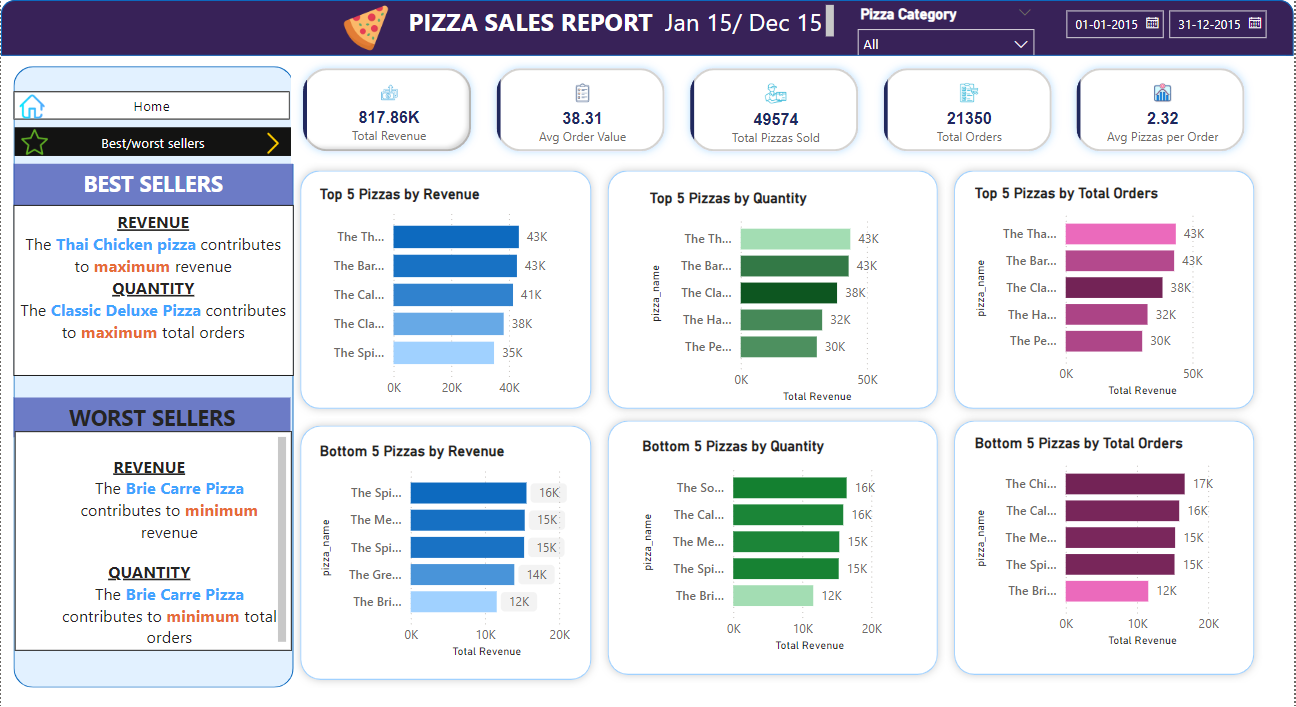

The dashboard page shown, as its layout file describes it:
{"tool":"powerbi","page":{"name":"Best/worst sellers","canvas":[1277,727],"ordinal":1},"visuals":[{"type":"shape","box":[11.8,65.1,276.7,614],"z":0},{"type":"cardVisual","fields":{"Data":["pizza_sales.Total Revenue","pizza_sales.Avg Order Value","pizza_sales.Total Pizzas Sold","pizza_sales.Total Orders","pizza_sales.Avg Pizzas per Order"]},"box":[286.6,55.2,958.5,106.7],"z":1000},{"type":"shape","box":[0,0,1276.8,55.2],"z":2000},{"type":"textbox","box":[397.9,0,438.6,55.2],"z":3000},{"type":"textbox","box":[651,0,177.2,41.6],"z":4000},{"type":"image","box":[331.9,0,56.1,55.2],"z":5000},{"type":"shape","box":[287.6,160.8,303.4,251.3],"z":6000},{"type":"textbox","box":[11.8,161.9,275.8,40.7],"z":7000},{"type":"textbox","box":[12.2,203,276.4,168.8],"z":8000},{"type":"textbox","box":[12.7,392.4,274,38.9],"z":9000},{"type":"textbox","box":[13.6,425.9,274,217],"z":10000},{"type":"slicer","fields":{"Values":["pizza_sales.pizza_category"]},"box":[836.4,0,194.4,54.3],"z":11000},{"type":"slicer","fields":{"Values":["pizza_sales.order_date"]},"box":[1039.9,0,236.9,54.3],"z":12000},{"type":"shape","box":[591,160.8,341.9,251.3],"z":13000},{"type":"shape","box":[932.8,160.8,312.5,251.3],"z":14000},{"type":"shape","box":[287.6,412.1,303.4,267.2],"z":15000},{"type":"shape","box":[591,407.6,341.9,267.2],"z":16000},{"type":"shape","box":[932.8,407.6,312.5,267.2],"z":17000},{"type":"clusteredBarChart","title":"Top 5 Pizzas by Revenue","fields":{"Category":["pizza_sales.pizza_name"],"Y":["pizza_sales.Total Revenue"]},"box":[310.5,182.4,261,218.3],"z":18000},{"type":"clusteredBarChart","title":"Bottom 5 Pizzas by Revenue","fields":{"Category":["pizza_sales.pizza_name"],"Y":["pizza_sales.Total Revenue"]},"box":[310.2,437,260.4,217.4],"z":19000},{"type":"clusteredBarChart","title":"Top 5 Pizzas by Quantity","fields":{"Category":["pizza_sales.pizza_name"],"Y":["pizza_sales.Total Revenue"]},"box":[635.3,187,261.2,216.1],"z":20000},{"type":"clusteredBarChart","title":"Bottom 5 Pizzas by Quantity","fields":{"Category":["pizza_sales.pizza_name"],"Y":["pizza_sales.Total Revenue"]},"box":[628.8,432.1,261.2,216.1],"z":21000},{"type":"clusteredBarChart","title":"Top 5 Pizzas by Total Orders","fields":{"Category":["pizza_sales.pizza_name"],"Y":["pizza_sales.Total Revenue"]},"box":[956.5,181,261.8,215.3],"z":21001},{"type":"clusteredBarChart","title":"Bottom 5 Pizzas by Total Orders","fields":{"Category":["pizza_sales.pizza_name"],"Y":["pizza_sales.Total Revenue"]},"box":[956.5,428.1,261.8,215.3],"z":21002},{"type":"pageNavigator","box":[11.8,90.4,273.1,28],"z":21003},{"type":"pageNavigator","box":[13.6,125.7,273.1,28.9],"z":21004},{"type":"image","box":[253.2,123,31.6,35.3],"z":21005},{"type":"image","box":[13.6,85.9,34.4,38],"z":21006},{"type":"image","box":[13.6,122.1,39.8,36.2],"z":21007}]}

Visuals, with their boxes on the page's 1277x727 design canvas (x1, y1, x2, y2). These are canvas units, not pixel positions in the 1296x707 screenshot, which may show the page scaled, cropped or inside an application window:
shape: (x1=12, y1=65, x2=288, y2=679)
cardVisual - pizza_sales.Total Revenue x pizza_sales.Avg Order Value: (x1=287, y1=55, x2=1245, y2=162)
shape: (x1=0, y1=0, x2=1277, y2=55)
textbox: (x1=398, y1=0, x2=836, y2=55)
textbox: (x1=651, y1=0, x2=828, y2=42)
image: (x1=332, y1=0, x2=388, y2=55)
shape: (x1=288, y1=161, x2=591, y2=412)
textbox: (x1=12, y1=162, x2=288, y2=203)
textbox: (x1=12, y1=203, x2=289, y2=372)
textbox: (x1=13, y1=392, x2=287, y2=431)
textbox: (x1=14, y1=426, x2=288, y2=643)
slicer - pizza_sales.pizza_category: (x1=836, y1=0, x2=1031, y2=54)
slicer - pizza_sales.order_date: (x1=1040, y1=0, x2=1277, y2=54)
shape: (x1=591, y1=161, x2=933, y2=412)
shape: (x1=933, y1=161, x2=1245, y2=412)
shape: (x1=288, y1=412, x2=591, y2=679)
shape: (x1=591, y1=408, x2=933, y2=675)
shape: (x1=933, y1=408, x2=1245, y2=675)
"Top 5 Pizzas by Revenue" clusteredBarChart: (x1=310, y1=182, x2=572, y2=401)
"Bottom 5 Pizzas by Revenue" clusteredBarChart: (x1=310, y1=437, x2=571, y2=654)
"Top 5 Pizzas by Quantity" clusteredBarChart: (x1=635, y1=187, x2=896, y2=403)
"Bottom 5 Pizzas by Quantity" clusteredBarChart: (x1=629, y1=432, x2=890, y2=648)
"Top 5 Pizzas by Total Orders" clusteredBarChart: (x1=956, y1=181, x2=1218, y2=396)
"Bottom 5 Pizzas by Total Orders" clusteredBarChart: (x1=956, y1=428, x2=1218, y2=643)
pageNavigator: (x1=12, y1=90, x2=285, y2=118)
pageNavigator: (x1=14, y1=126, x2=287, y2=155)
image: (x1=253, y1=123, x2=285, y2=158)
image: (x1=14, y1=86, x2=48, y2=124)
image: (x1=14, y1=122, x2=53, y2=158)
